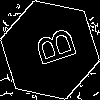B: (25, 25, 77, 71)
